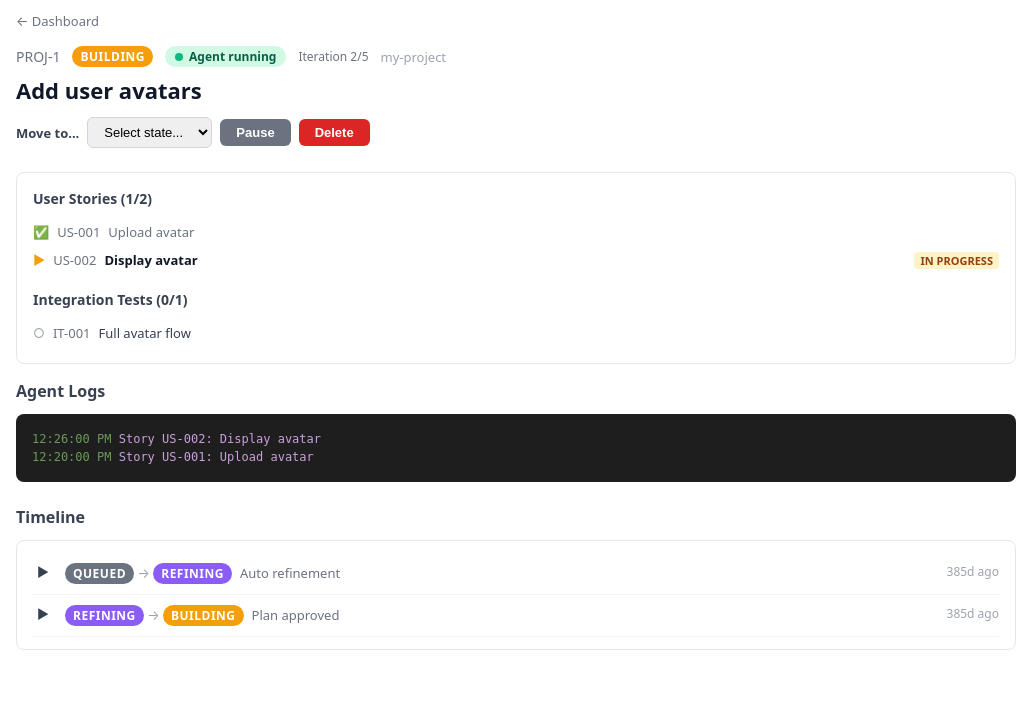
IssueDetail › shows error when transition fails
The width and height of the screenshot is (1033, 715).
Select "in_review" in the dropdown at (150, 132), box [87,117,212,148]
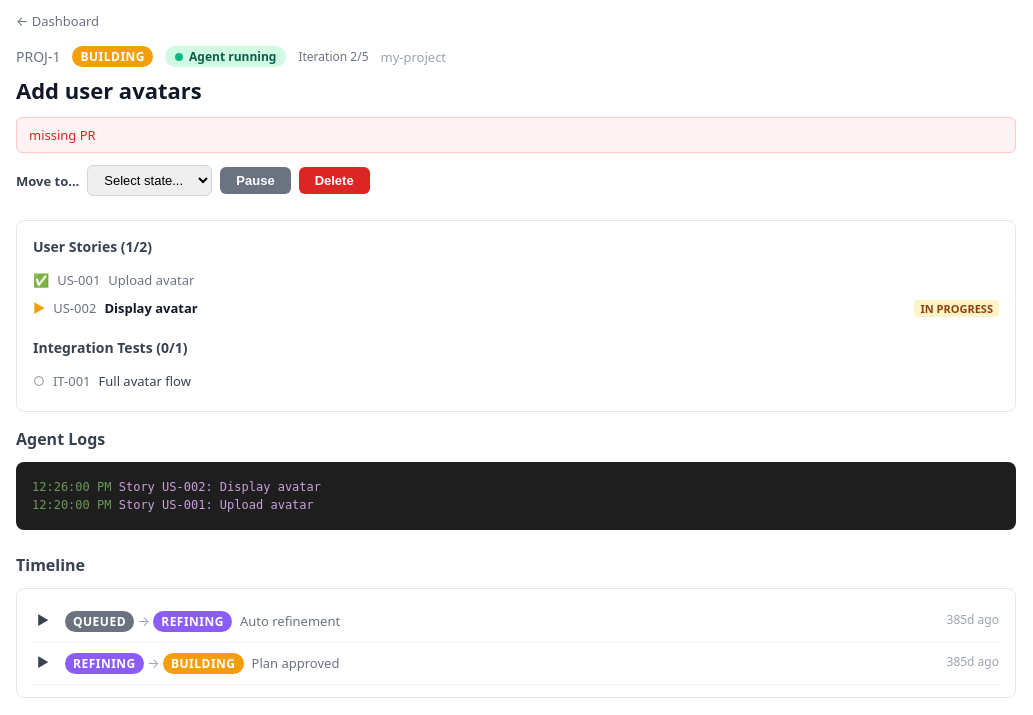
Check: the text "missing PR" is shown, box [16,117,1016,153]
